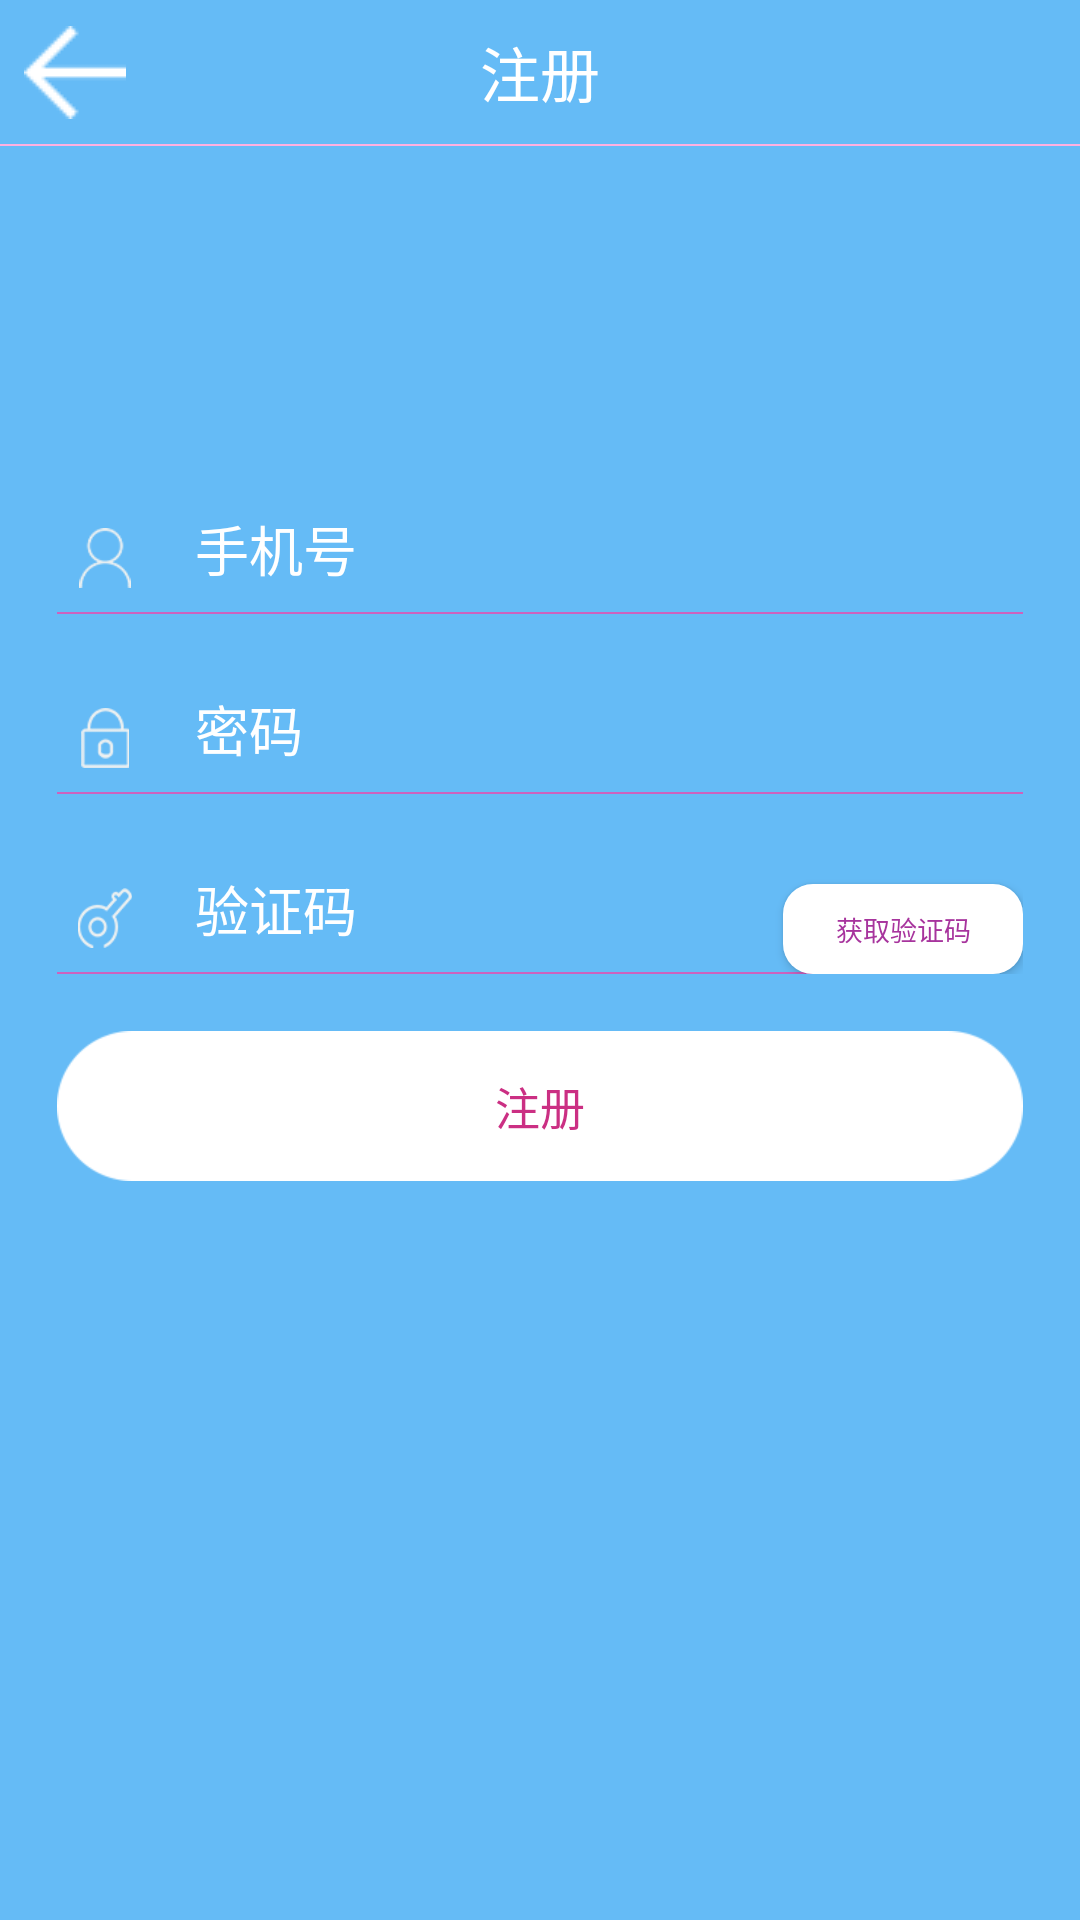

Named icons in this screenshot (1080*1920) and their centers, (x,y):
getcode: (105,918)
passowrd: (105,738)
username: (105,558)
